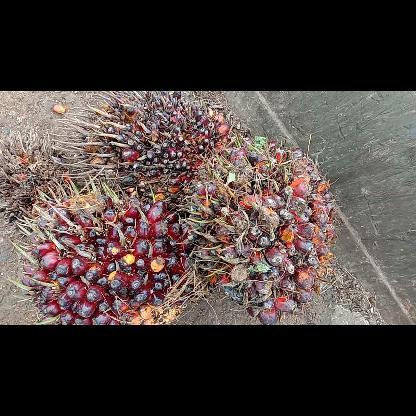TBS abnormal: (61, 90, 235, 208), (0, 128, 76, 230)
TBS masak: (181, 134, 342, 324), (10, 172, 198, 324)
